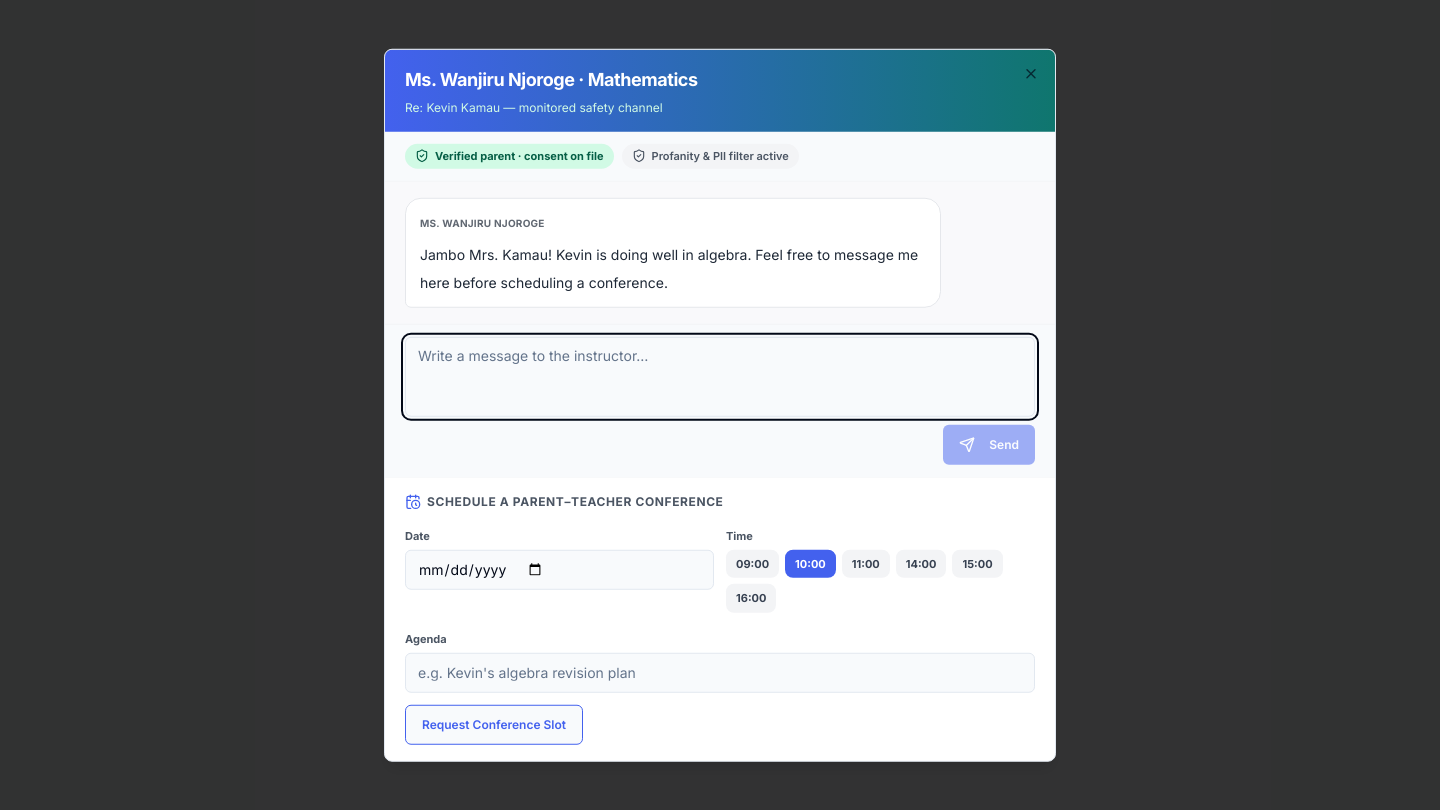
Test: ParentTeacherChatModal Component › keeps Send disabled until a message is typed
Expected: the button "Send" is disabled, [943, 424, 1035, 464]
Type "Hello there" into the text box named "Message composer".
click(720, 376); type("Hello there")  # box [405, 336, 1035, 416]
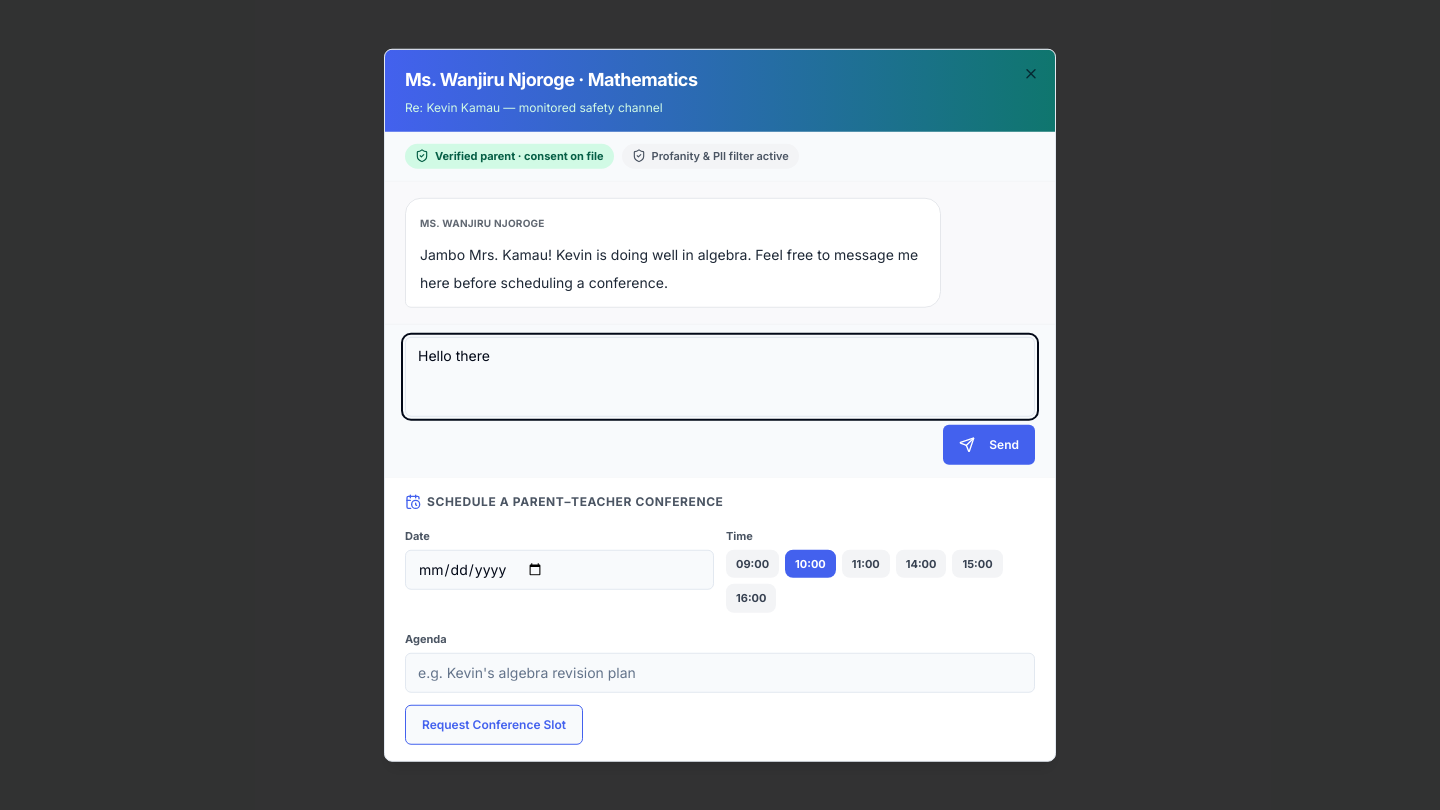
Expected: the button "Send" is enabled, [943, 424, 1035, 464]
